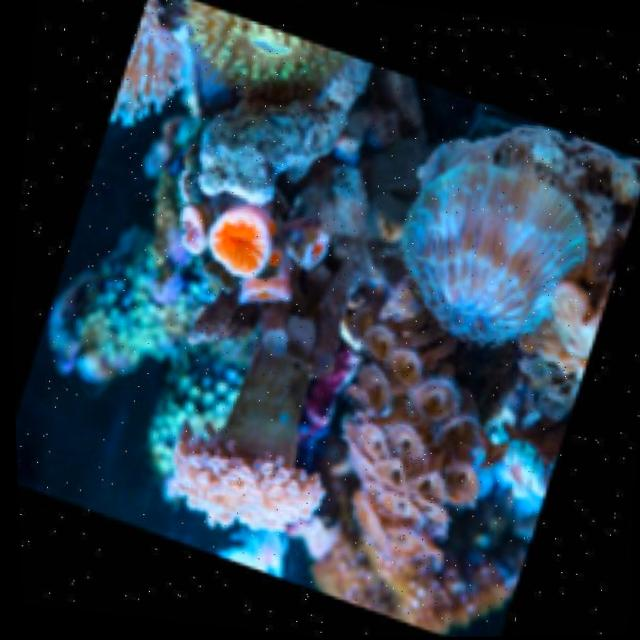Healthy Coral: (124, 72, 392, 363), (132, 325, 409, 573), (376, 114, 626, 387), (307, 282, 524, 568)
